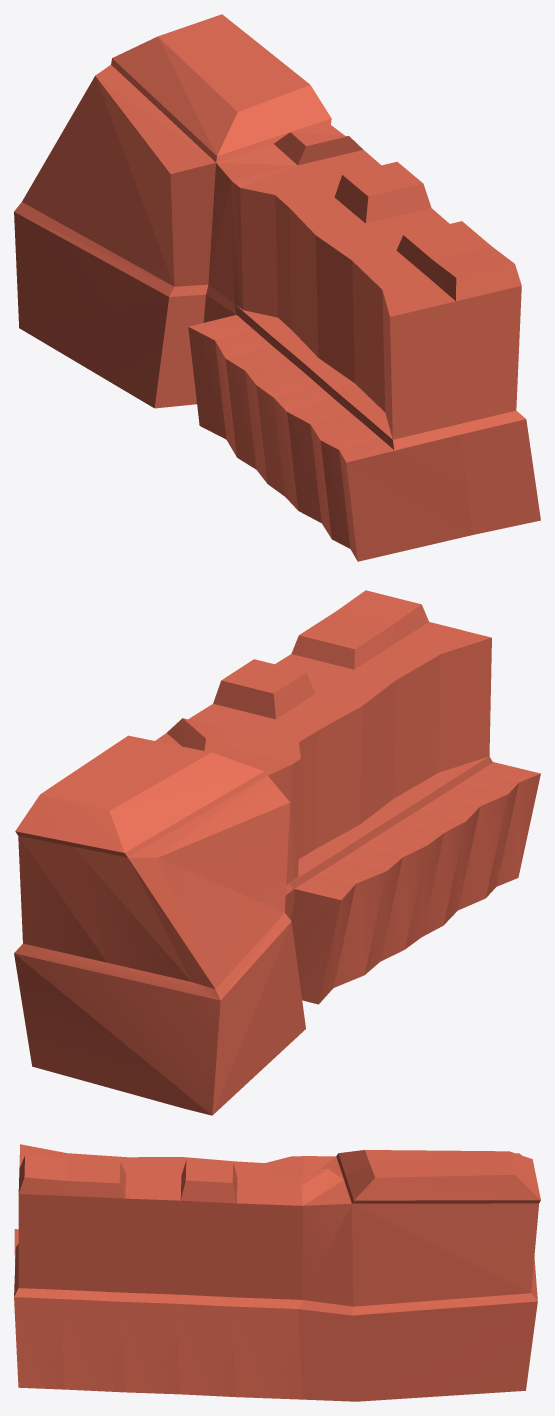
Rendered from Roca2.fbx.
3 views of the same model, one above another, from view 1: azimuth 30°, elevation 25°; view 2: azimuth 150°, elevation 25°; view 3: azimuth 270°, elevation 25° (orthographic). The views are drawn at different scales.
Parts seen in each view (by area): view 1: Cube.004; view 2: Cube.004; view 3: Cube.004.
Part boxes in pixels (bbox=[...]): Cube.004: bbox=[14, 14, 540, 561]; Cube.004: bbox=[14, 590, 540, 1115]; Cube.004: bbox=[14, 1144, 540, 1401].
Bounding box in the file's own units: 1904 × 2214 × 4905.
